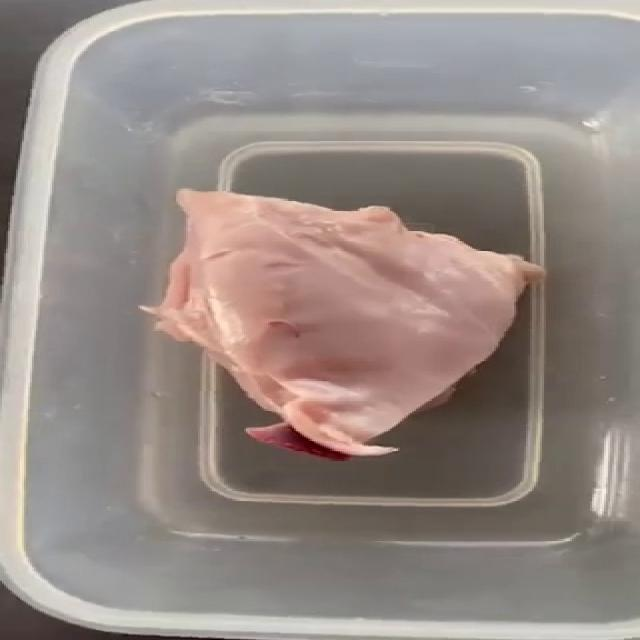chicken: (158, 187, 558, 465)
